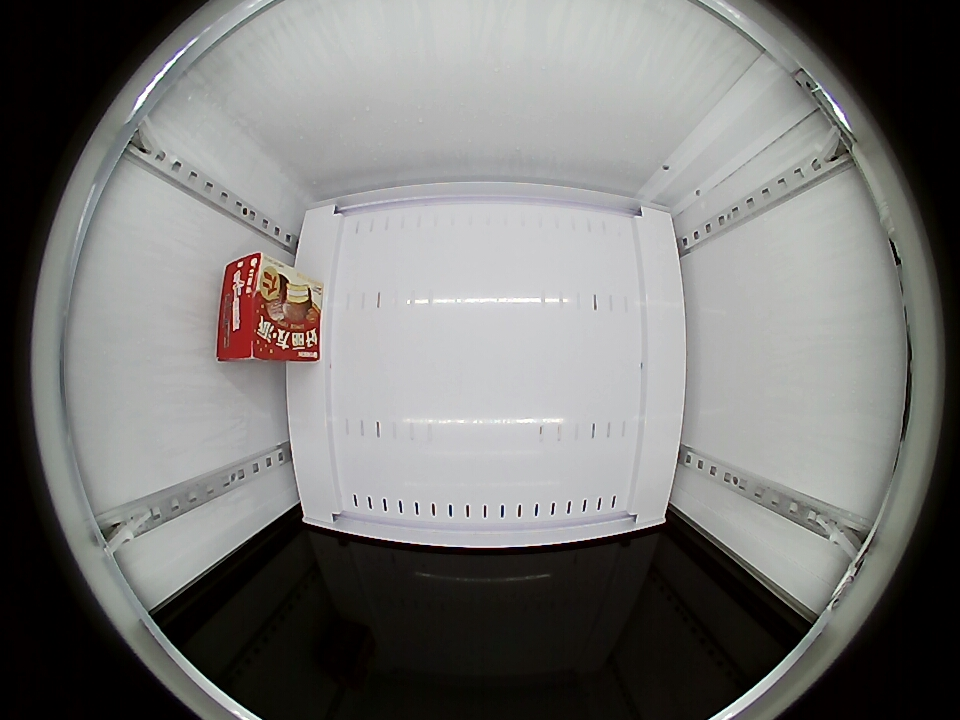haoliyou: (217, 253, 293, 361)
